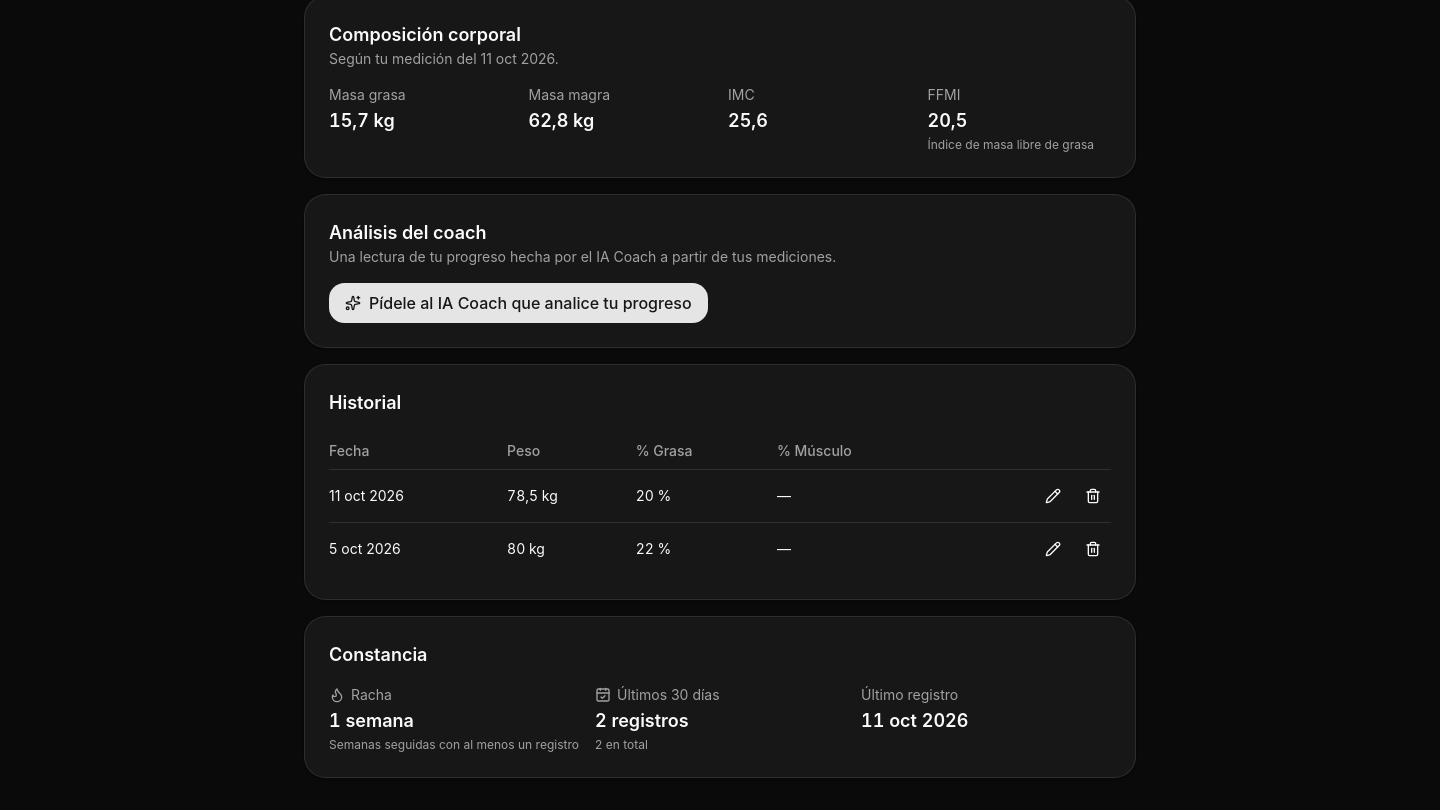
Test: BodyMetricsPage - las demás pantallas reflejan los cambios sin recargar › tras borrar la última medición, el campo 'Peso' del perfil muestra 80 y el perfil se volvió a pedir
The width and height of the screenshot is (1440, 810).
(page scrolled)
Click the button named "Borrar medición del 11 oct 2026" at (1093, 496), box [1075,478,1111,514]
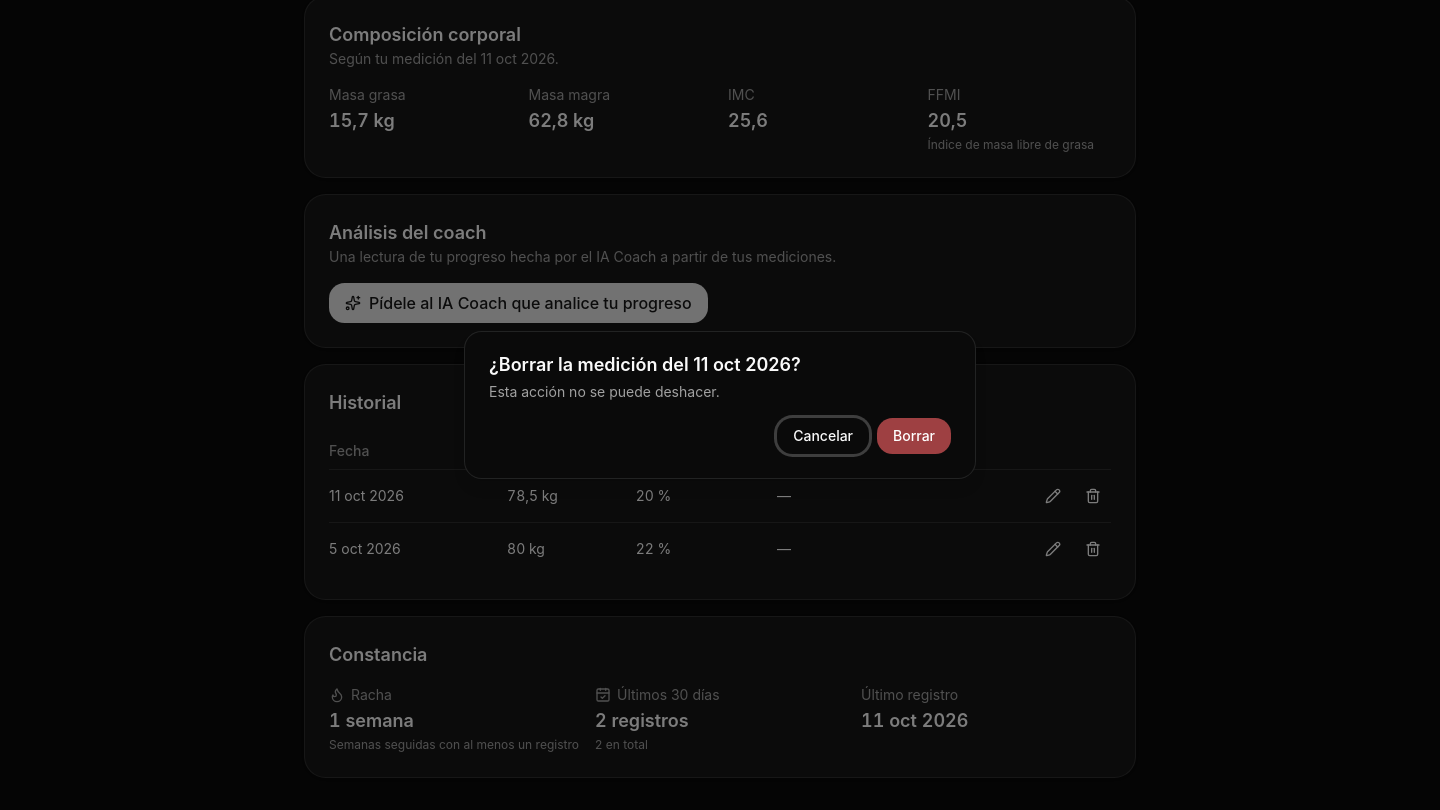
Click the button "Borrar" at (914, 436), box [877,418,951,454]
(page scrolled)
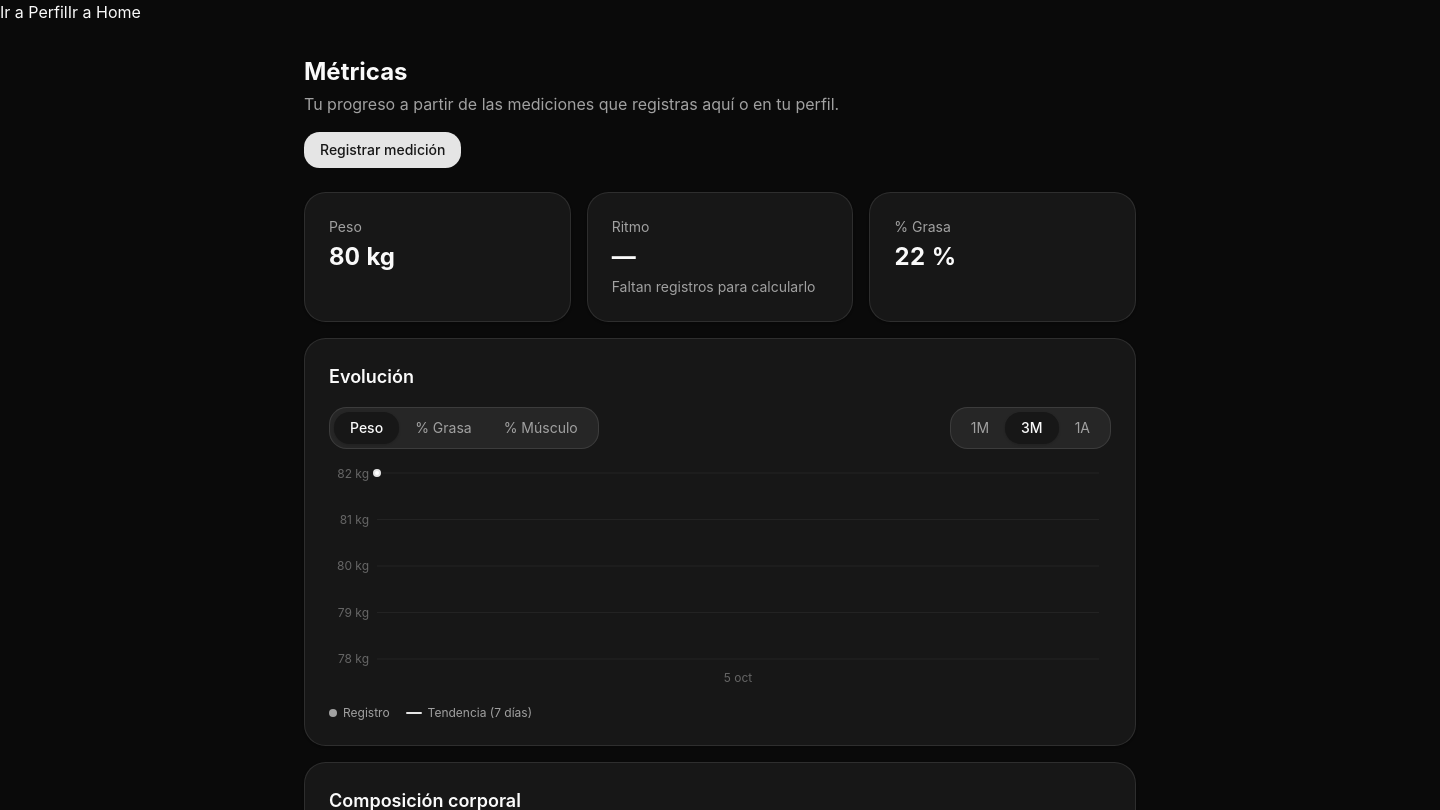
Expected: the dialog is gone
Click the link "Ir a Perfil" at (34, 12), box [0,2,68,22]
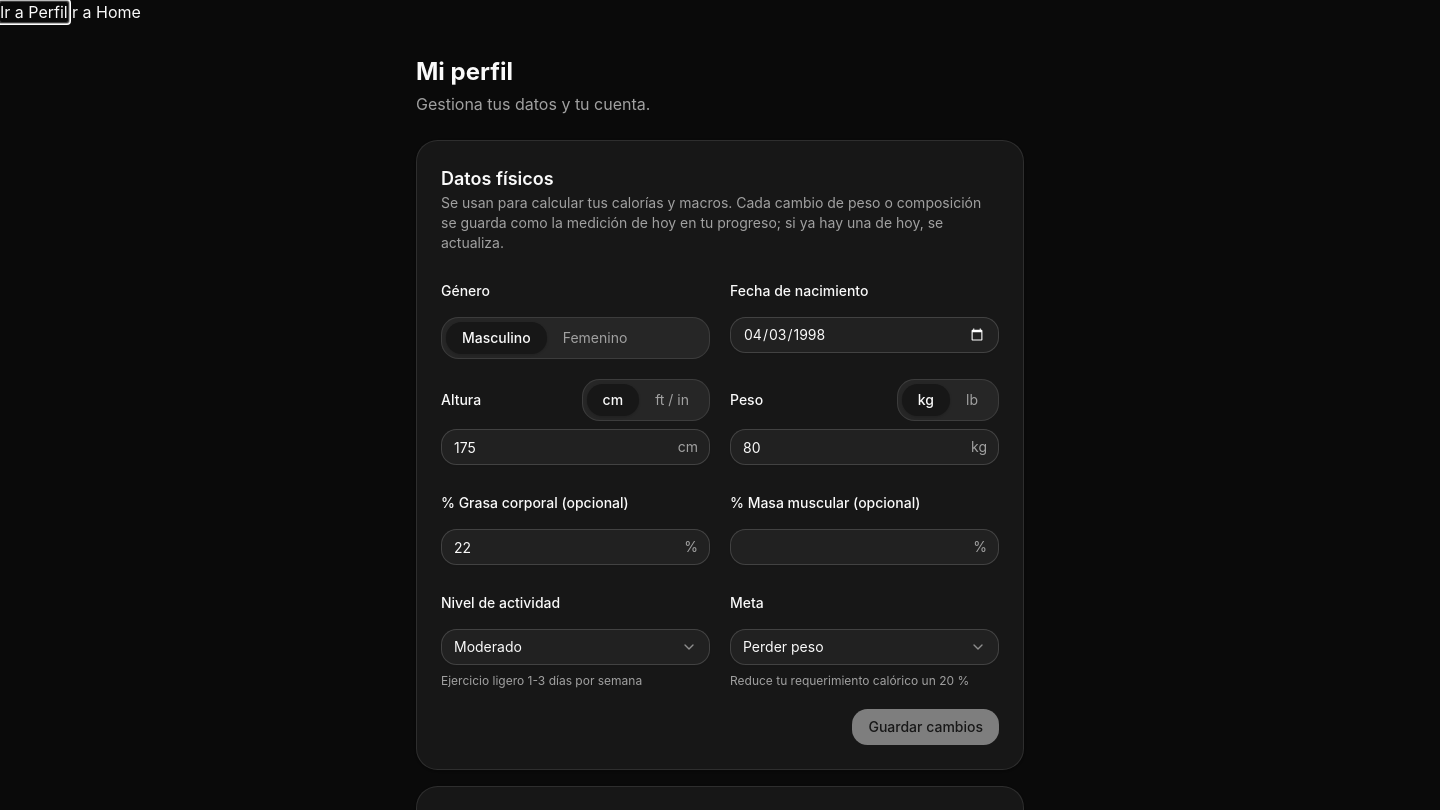
Expected: the date field labelled "Fecha de nacimiento" is shown, [730,317,999,353]
Expected: the 2nd number field holds "80", [730,429,999,465]
